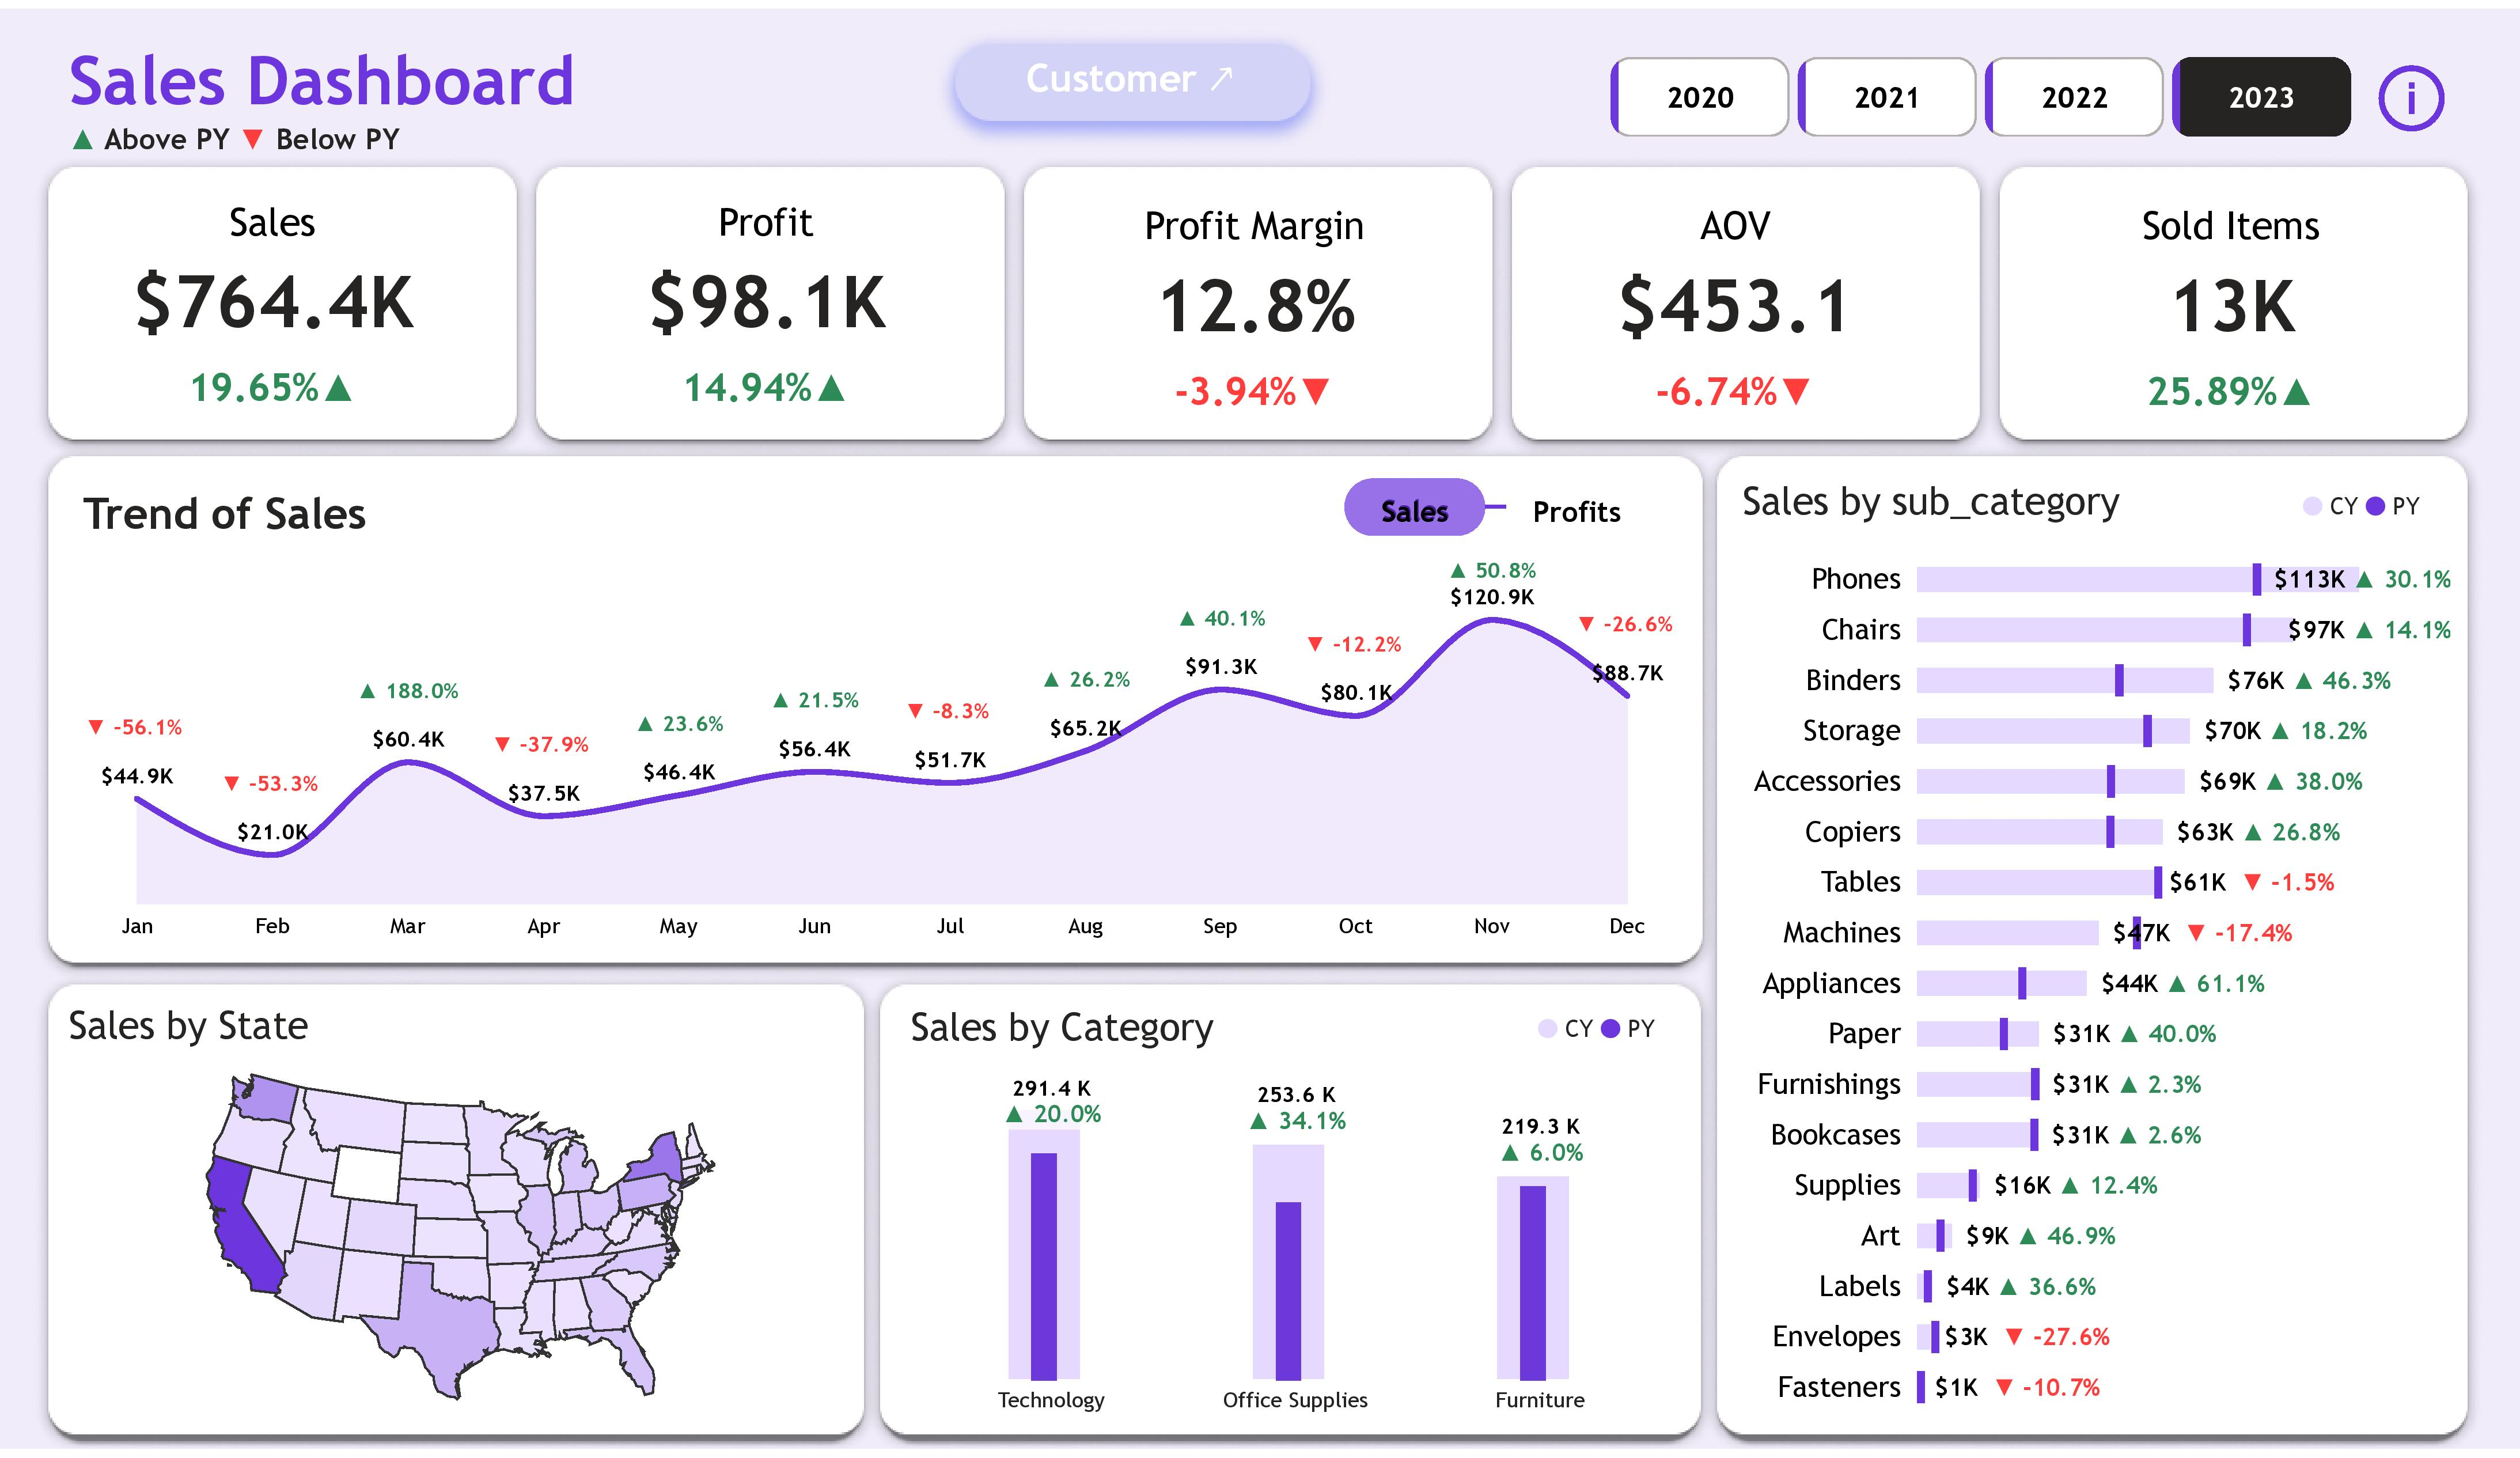

The page's visual inventory and layout, read from the dashboard file:
{"tool":"powerbi","page":{"name":"Sales Dashboard","canvas":[1400,800],"ordinal":2},"visuals":[{"type":"cardVisual","fields":{"Data":["Measure.Profit Margin"]},"box":[600,91.3,194.4,148.1],"z":0},{"type":"actionButton","box":[747.7,260.4,77.3,31.9],"z":2000},{"type":"cardVisual","fields":{"Data":["Measure.Total Sales"]},"box":[48.9,91.3,205,148.1],"z":3000},{"type":"cardVisual","fields":{"Data":["Measure.Profit"]},"box":[322.8,91.3,205,148.1],"z":4000},{"type":"cardVisual","fields":{"Data":["Measure.AOV"]},"box":[859,91.3,210.3,148.1],"z":5000},{"type":"areaChart","title":"Trend of Sales","fields":{"Category":["Date.Month"],"Y":["Measure.Total Sales","Measure.Label2"]},"box":[41,260.6,898.2,264.6],"z":6000},{"type":"actionButton","box":[837.3,260.6,78,31.7],"z":7000},{"type":"actionButton","box":[747.4,260.6,78,31.7],"z":8000},{"type":"shapeMap","fields":{"Value":["Measure.Sales"],"Category":["dim_location.state"]},"box":[33.1,551.6,441.8,236.8],"z":10000},{"type":"clusteredBarChart","title":"Sales by sub_category","fields":{"Y":["Measure.Sales"],"Category":["dim_products.sub_category"]},"box":[963,260.6,403.4,527.8],"z":11000},{"type":"textbox","box":[33.1,13.2,318.8,66.1],"z":12000},{"type":"shape","box":[825,253.7,11.8,45.4],"z":13000},{"type":"cardVisual","fields":{"Data":["Measure.Items Sold"]},"box":[1138.9,91.3,201.1,148.1],"z":14000},{"type":"actionButton","box":[1316,25,47.6,49],"z":16000},{"type":"lineClusteredColumnComboChart","title":"Sales by Category","fields":{"Y":["Measure.Sales"],"Y2":["Measure.Base Label"],"Category":["dim_products.category"]},"box":[501.3,552.9,437.8,235.5],"z":17000},{"type":"advancedSlicerVisual","fields":{"Values":["Date.Year"]},"box":[870,22,464.3,54],"z":18000},{"type":"textbox","box":[849.2,551.6,89.9,30.4],"z":19000},{"type":"textbox","box":[1273.8,261.9,89.9,30.4],"z":20000},{"type":"textbox","box":[33,58,210.3,33.1],"z":21000},{"type":"actionButton","box":[529,21,198,37],"z":22000}]}

Visuals, with their boxes in screenshot pixels (x1, y1, x2, y2), scaled from the page's 1400x800 canvas onto the 2520x1458 screenshot:
cardVisual - Measure.Profit Margin: bbox(1080, 166, 1430, 436)
actionButton: bbox(1346, 475, 1485, 533)
cardVisual - Measure.Total Sales: bbox(88, 166, 457, 436)
cardVisual - Measure.Profit: bbox(581, 166, 950, 436)
cardVisual - Measure.AOV: bbox(1546, 166, 1925, 436)
"Trend of Sales" areaChart: bbox(74, 475, 1691, 957)
actionButton: bbox(1507, 475, 1647, 533)
actionButton: bbox(1346, 475, 1486, 533)
shapeMap - Measure.Sales x dim_location.state: bbox(59, 1005, 855, 1437)
"Sales by sub_category" clusteredBarChart: bbox(1733, 475, 2460, 1437)
textbox: bbox(59, 24, 634, 145)
shape: bbox(1485, 463, 1506, 545)
cardVisual - Measure.Items Sold: bbox(2050, 166, 2412, 436)
actionButton: bbox(2369, 46, 2454, 135)
"Sales by Category" lineClusteredColumnComboChart: bbox(903, 1008, 1691, 1437)
advancedSlicerVisual - Date.Year: bbox(1566, 40, 2402, 138)
textbox: bbox(1529, 1005, 1691, 1061)
textbox: bbox(2293, 478, 2455, 533)
textbox: bbox(59, 105, 438, 166)
actionButton: bbox(952, 38, 1309, 105)
